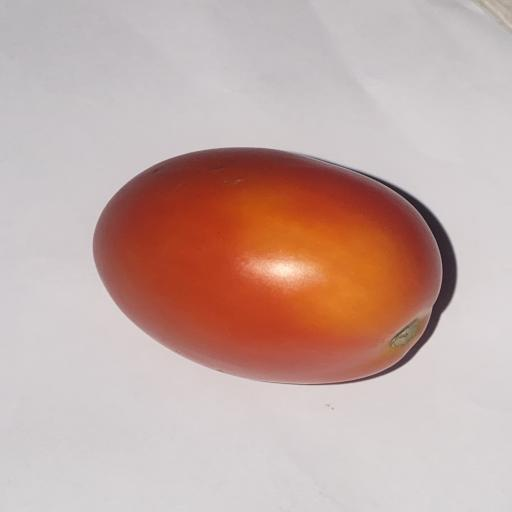ripe: (94, 148, 442, 383)
